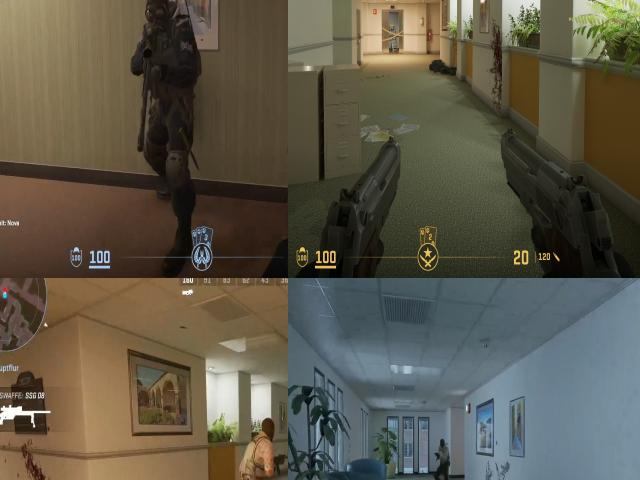CT: (137, 0, 192, 140)
CT-Head: (144, 0, 176, 39)
Dead: (427, 57, 458, 82)
T: (233, 409, 283, 480), (250, 416, 281, 442), (436, 433, 449, 480), (438, 437, 447, 451)
